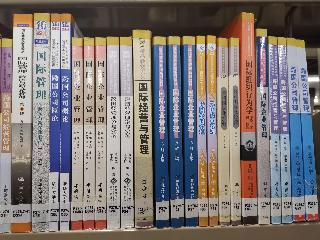book-spine: (28, 13, 51, 233), (132, 29, 155, 230), (11, 14, 32, 233), (295, 39, 320, 221), (284, 38, 306, 222), (240, 10, 258, 226), (150, 35, 170, 228), (165, 36, 185, 228), (264, 36, 284, 225), (118, 36, 136, 230), (58, 14, 73, 231), (227, 38, 244, 227), (255, 29, 271, 226), (67, 36, 83, 230), (183, 35, 199, 228), (204, 35, 220, 227), (106, 37, 121, 231), (0, 38, 14, 234), (94, 37, 108, 231), (81, 37, 95, 230), (195, 35, 209, 227), (278, 35, 292, 224), (48, 13, 60, 232), (218, 39, 231, 227)
